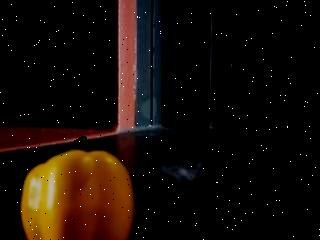Capsicum: (20, 136, 135, 240)
